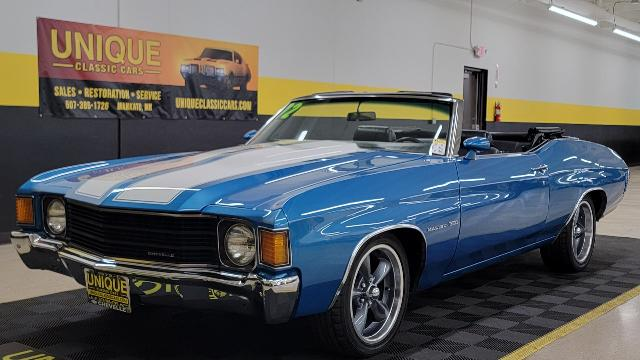chevelle-1972: (11, 92, 629, 358)
